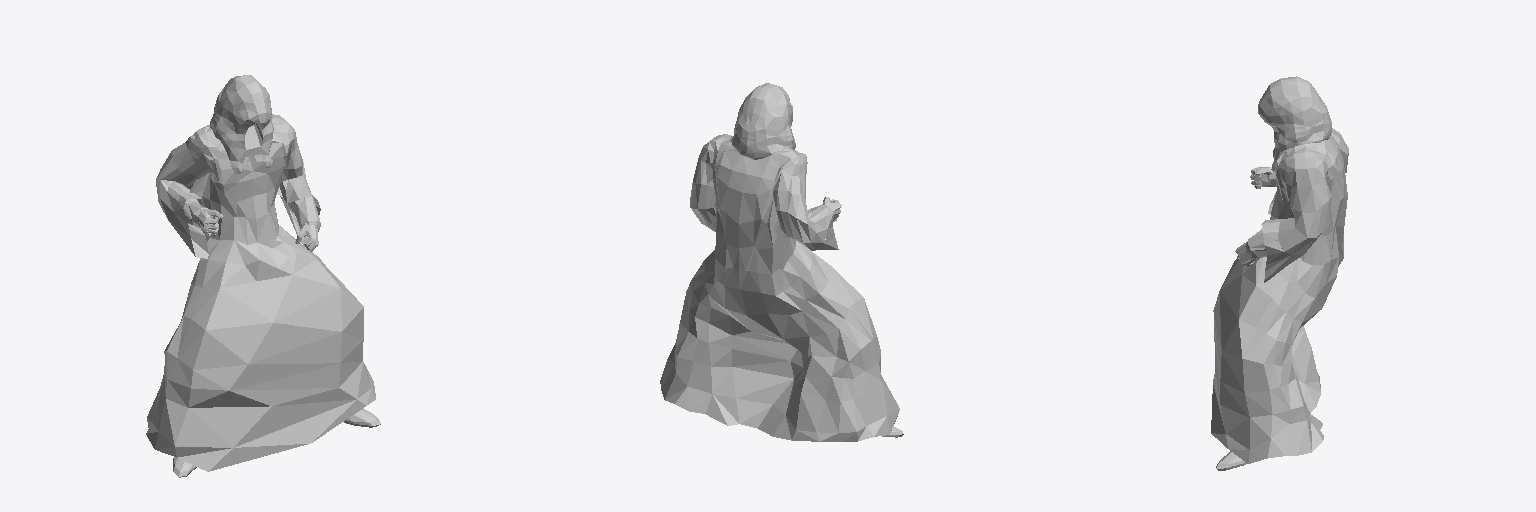
File: Fellbeast_Animate_Flying_32.obj
3 renders of one model, left to right at view 1: azimuth 30°, elevation 25°; view 2: azimuth 150°, elevation 25°; view 3: azimuth 270°, elevation 25°, orthographic.
Visible parts, largest first — view 1: dm_nazgulrobe_ride_241108; view 2: dm_nazgulrobe_ride_241108; view 3: dm_nazgulrobe_ride_241108.
Boxes of the visible parts, box(x1,y1,x2,y2) form: dm_nazgulrobe_ride_241108: box(146, 75, 380, 477); dm_nazgulrobe_ride_241108: box(660, 83, 903, 441); dm_nazgulrobe_ride_241108: box(1211, 76, 1348, 470).
Size of the model in its own units: 0.4419 by 0.6659 by 0.2371.